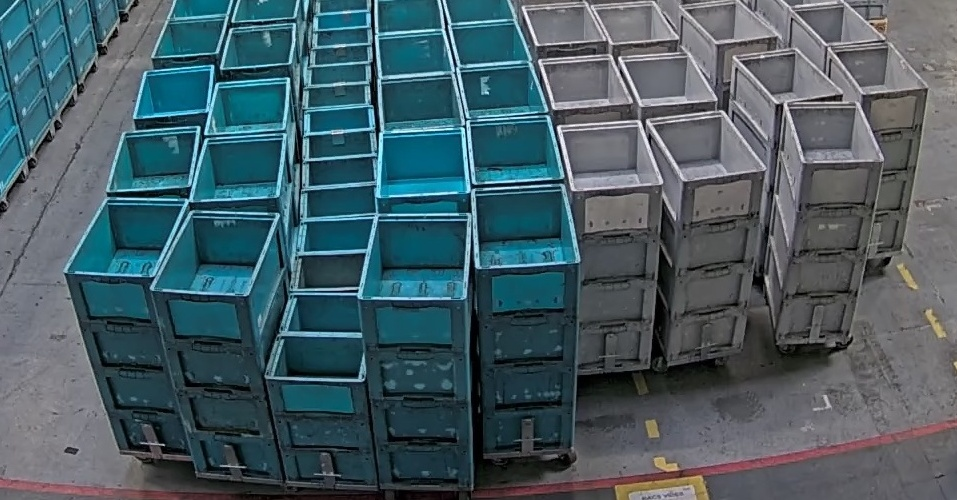4G: (645, 109, 767, 364), (762, 100, 885, 340), (557, 119, 664, 371), (825, 41, 929, 254)
B4: (148, 207, 291, 482), (60, 196, 192, 459), (356, 211, 474, 491), (468, 182, 583, 453)
B8: (263, 291, 383, 488)
